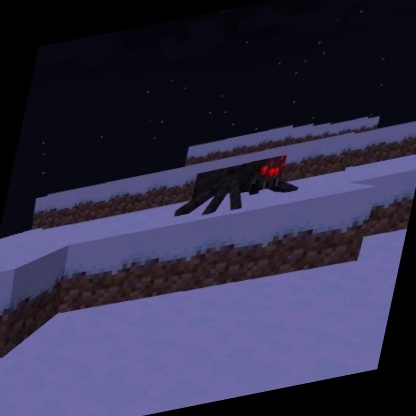spider: (166, 146, 309, 226)
